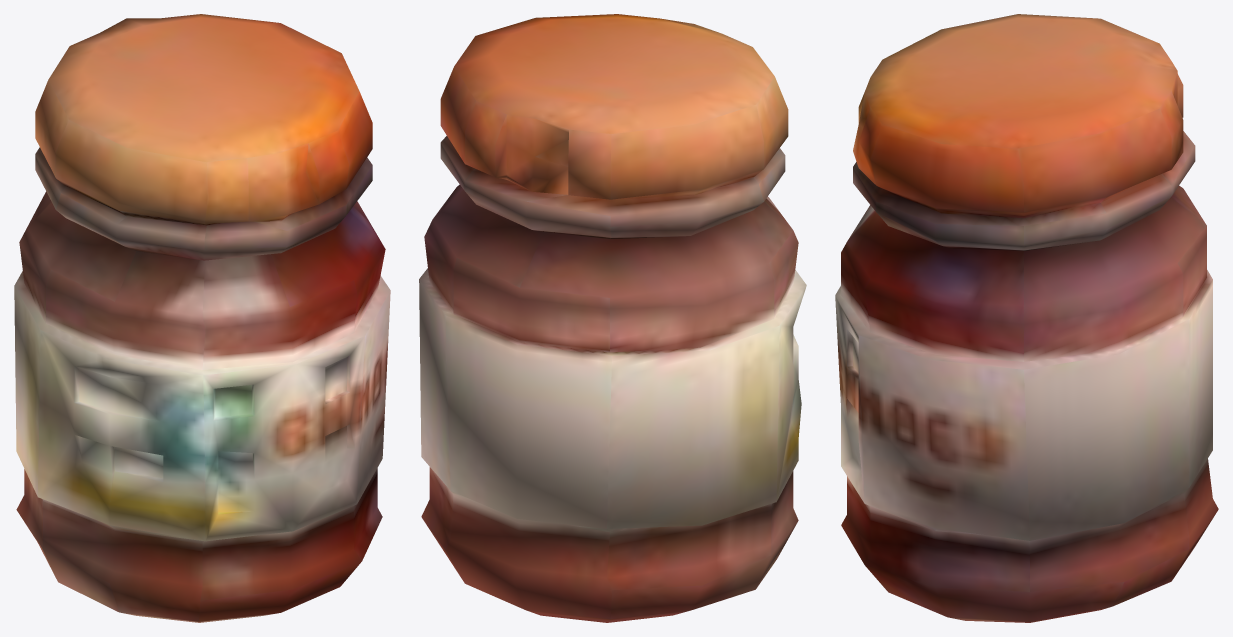
The model's file is jam.glb.
3 renders of one model, left to right at view 1: azimuth 30°, elevation 25°; view 2: azimuth 150°, elevation 25°; view 3: azimuth 270°, elevation 25°, orthographic. The views are drawn at different scales.
Parts seen in each view (by area): view 1: Jam; view 2: Jam; view 3: Jam.
Part boxes in pixels (<box>): Jam: <box>14,14,390,622</box>; Jam: <box>419,14,806,622</box>; Jam: <box>835,14,1218,622</box>.
Size of the model in its own units: 1.18 by 1.74 by 1.19.
Materials: 1 (1 with a texture image).
